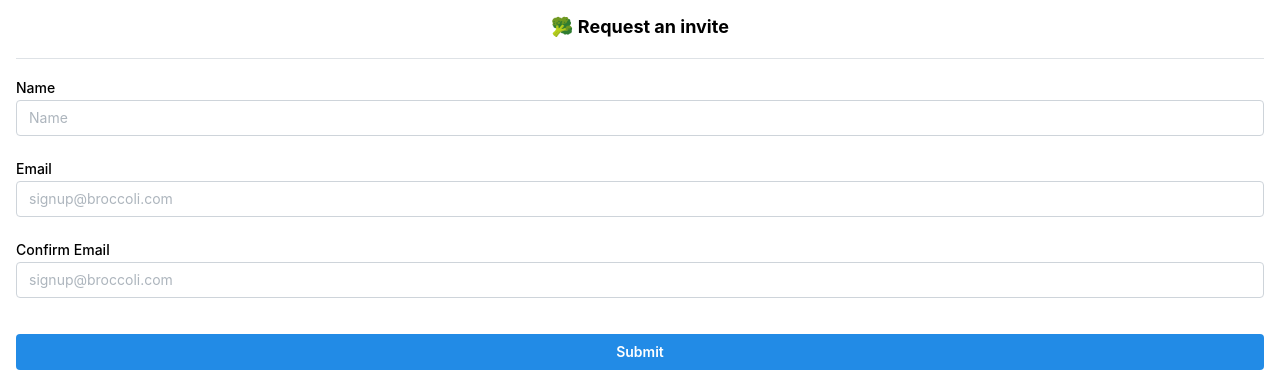
Test: InviteForm › Should display error if email is invalid
Type "ab" into the field labelled "Email" at (640, 199), box [16,181,1264,217]
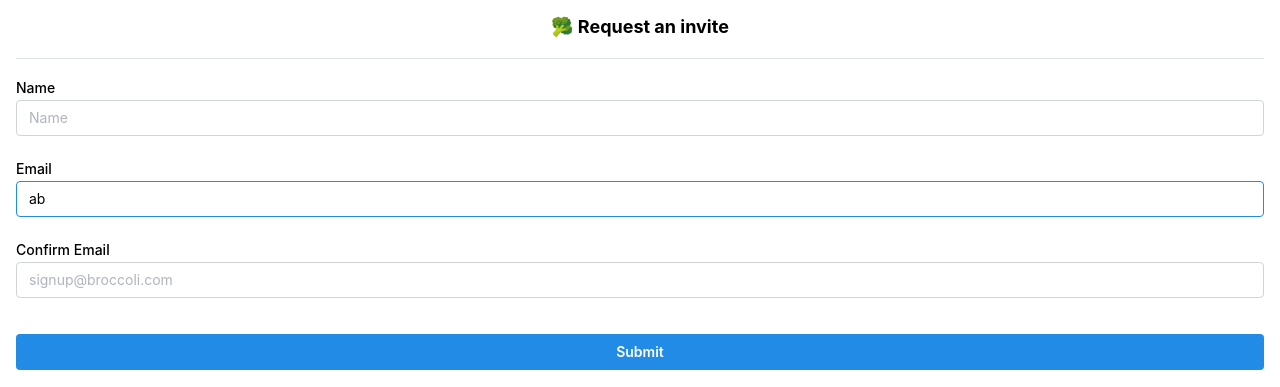
Press Tab
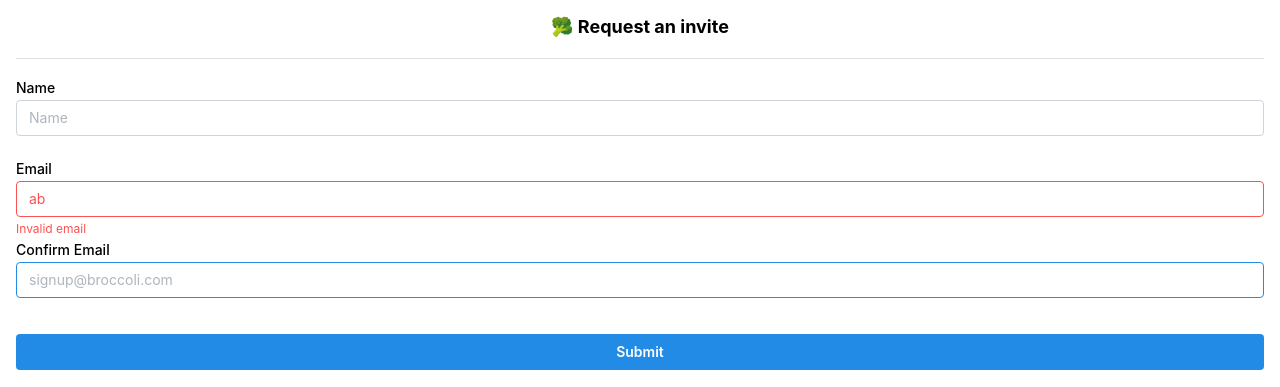
Result: the text "Invalid email" is shown at [16,221,86,236]
